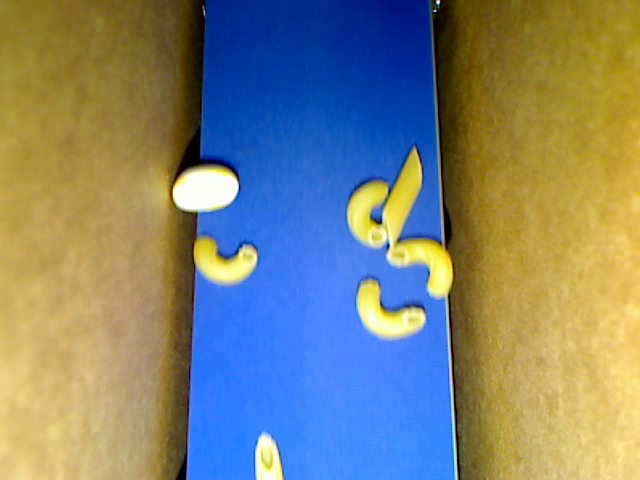elbow: (356, 275, 426, 341), (386, 235, 455, 298), (192, 235, 259, 286), (347, 179, 388, 249)
penne: (381, 145, 421, 244), (253, 431, 283, 479)
